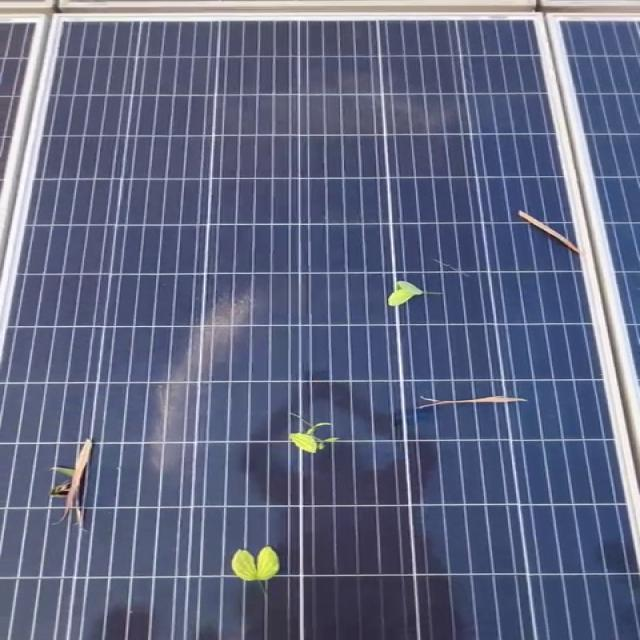dust_partical: (197, 91, 503, 130), (120, 373, 230, 461), (173, 302, 277, 366)
old_leaf: (509, 204, 592, 260), (402, 385, 548, 412), (51, 442, 97, 518), (214, 551, 306, 583), (288, 424, 340, 457), (381, 276, 432, 307)
